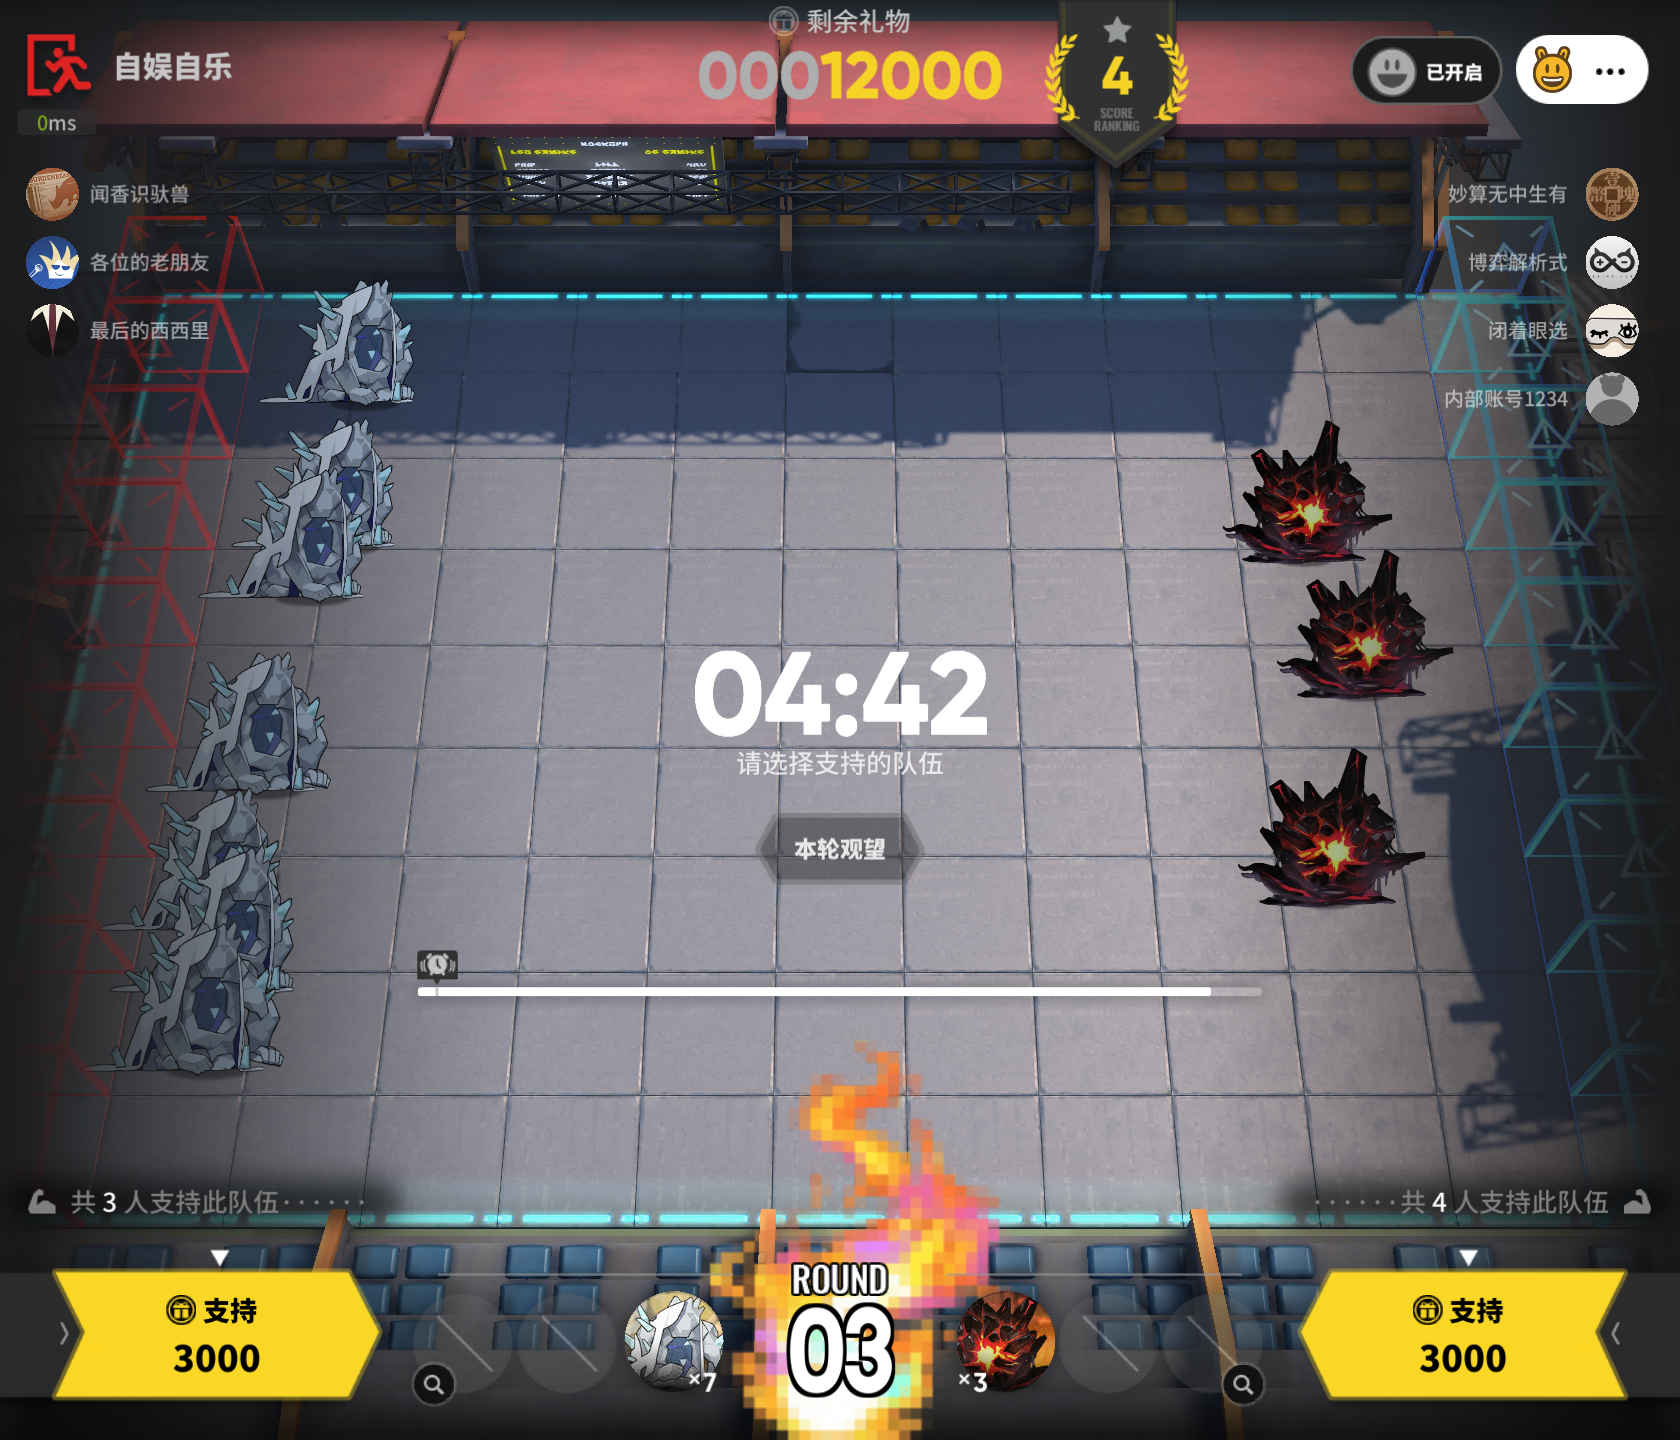“庞贝”: (1237, 749, 1424, 906), (1274, 549, 1453, 699), (1221, 420, 1391, 563), (961, 1290, 1060, 1389)
扎人的石头: (101, 929, 294, 1073), (263, 414, 421, 559), (169, 651, 330, 793), (141, 790, 301, 931), (137, 854, 300, 993), (224, 470, 394, 601), (261, 279, 414, 406), (620, 1286, 730, 1393)
